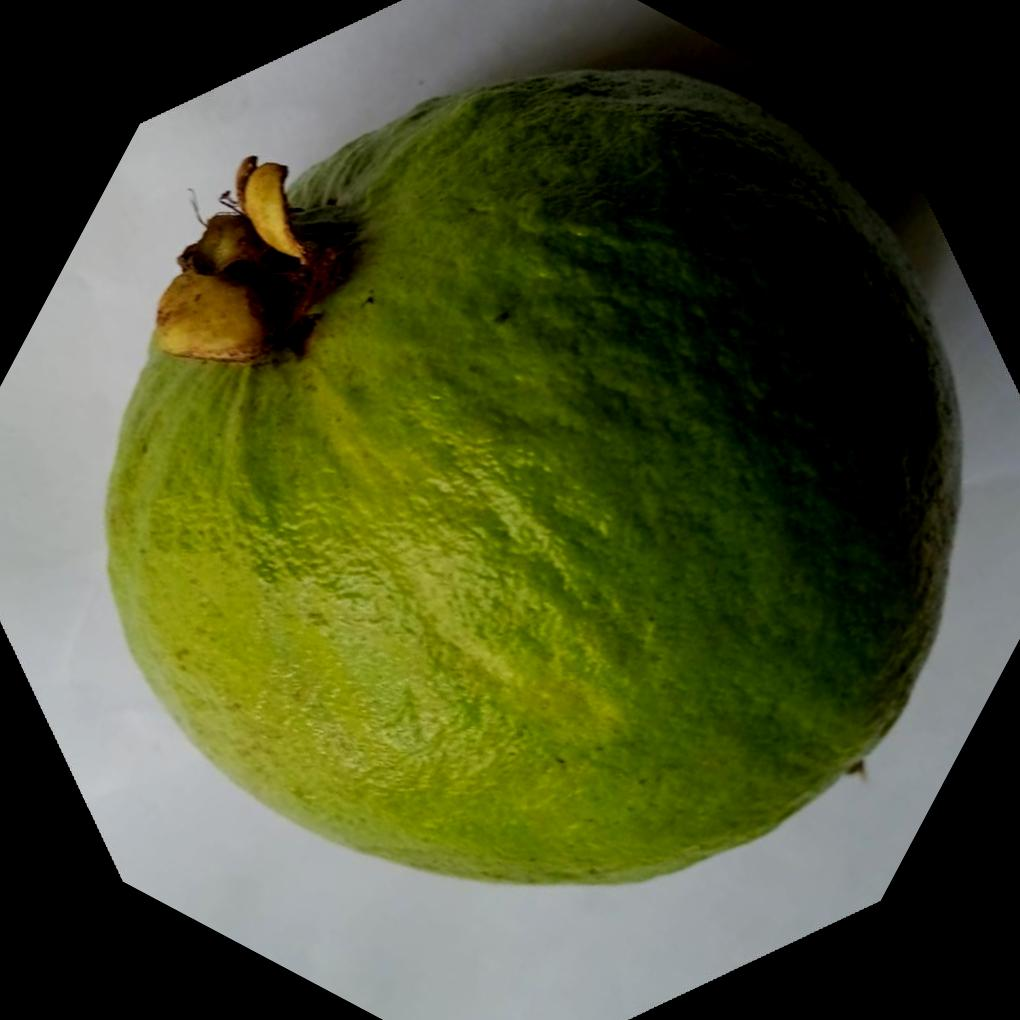FreshGuava: (98, 64, 962, 885)
